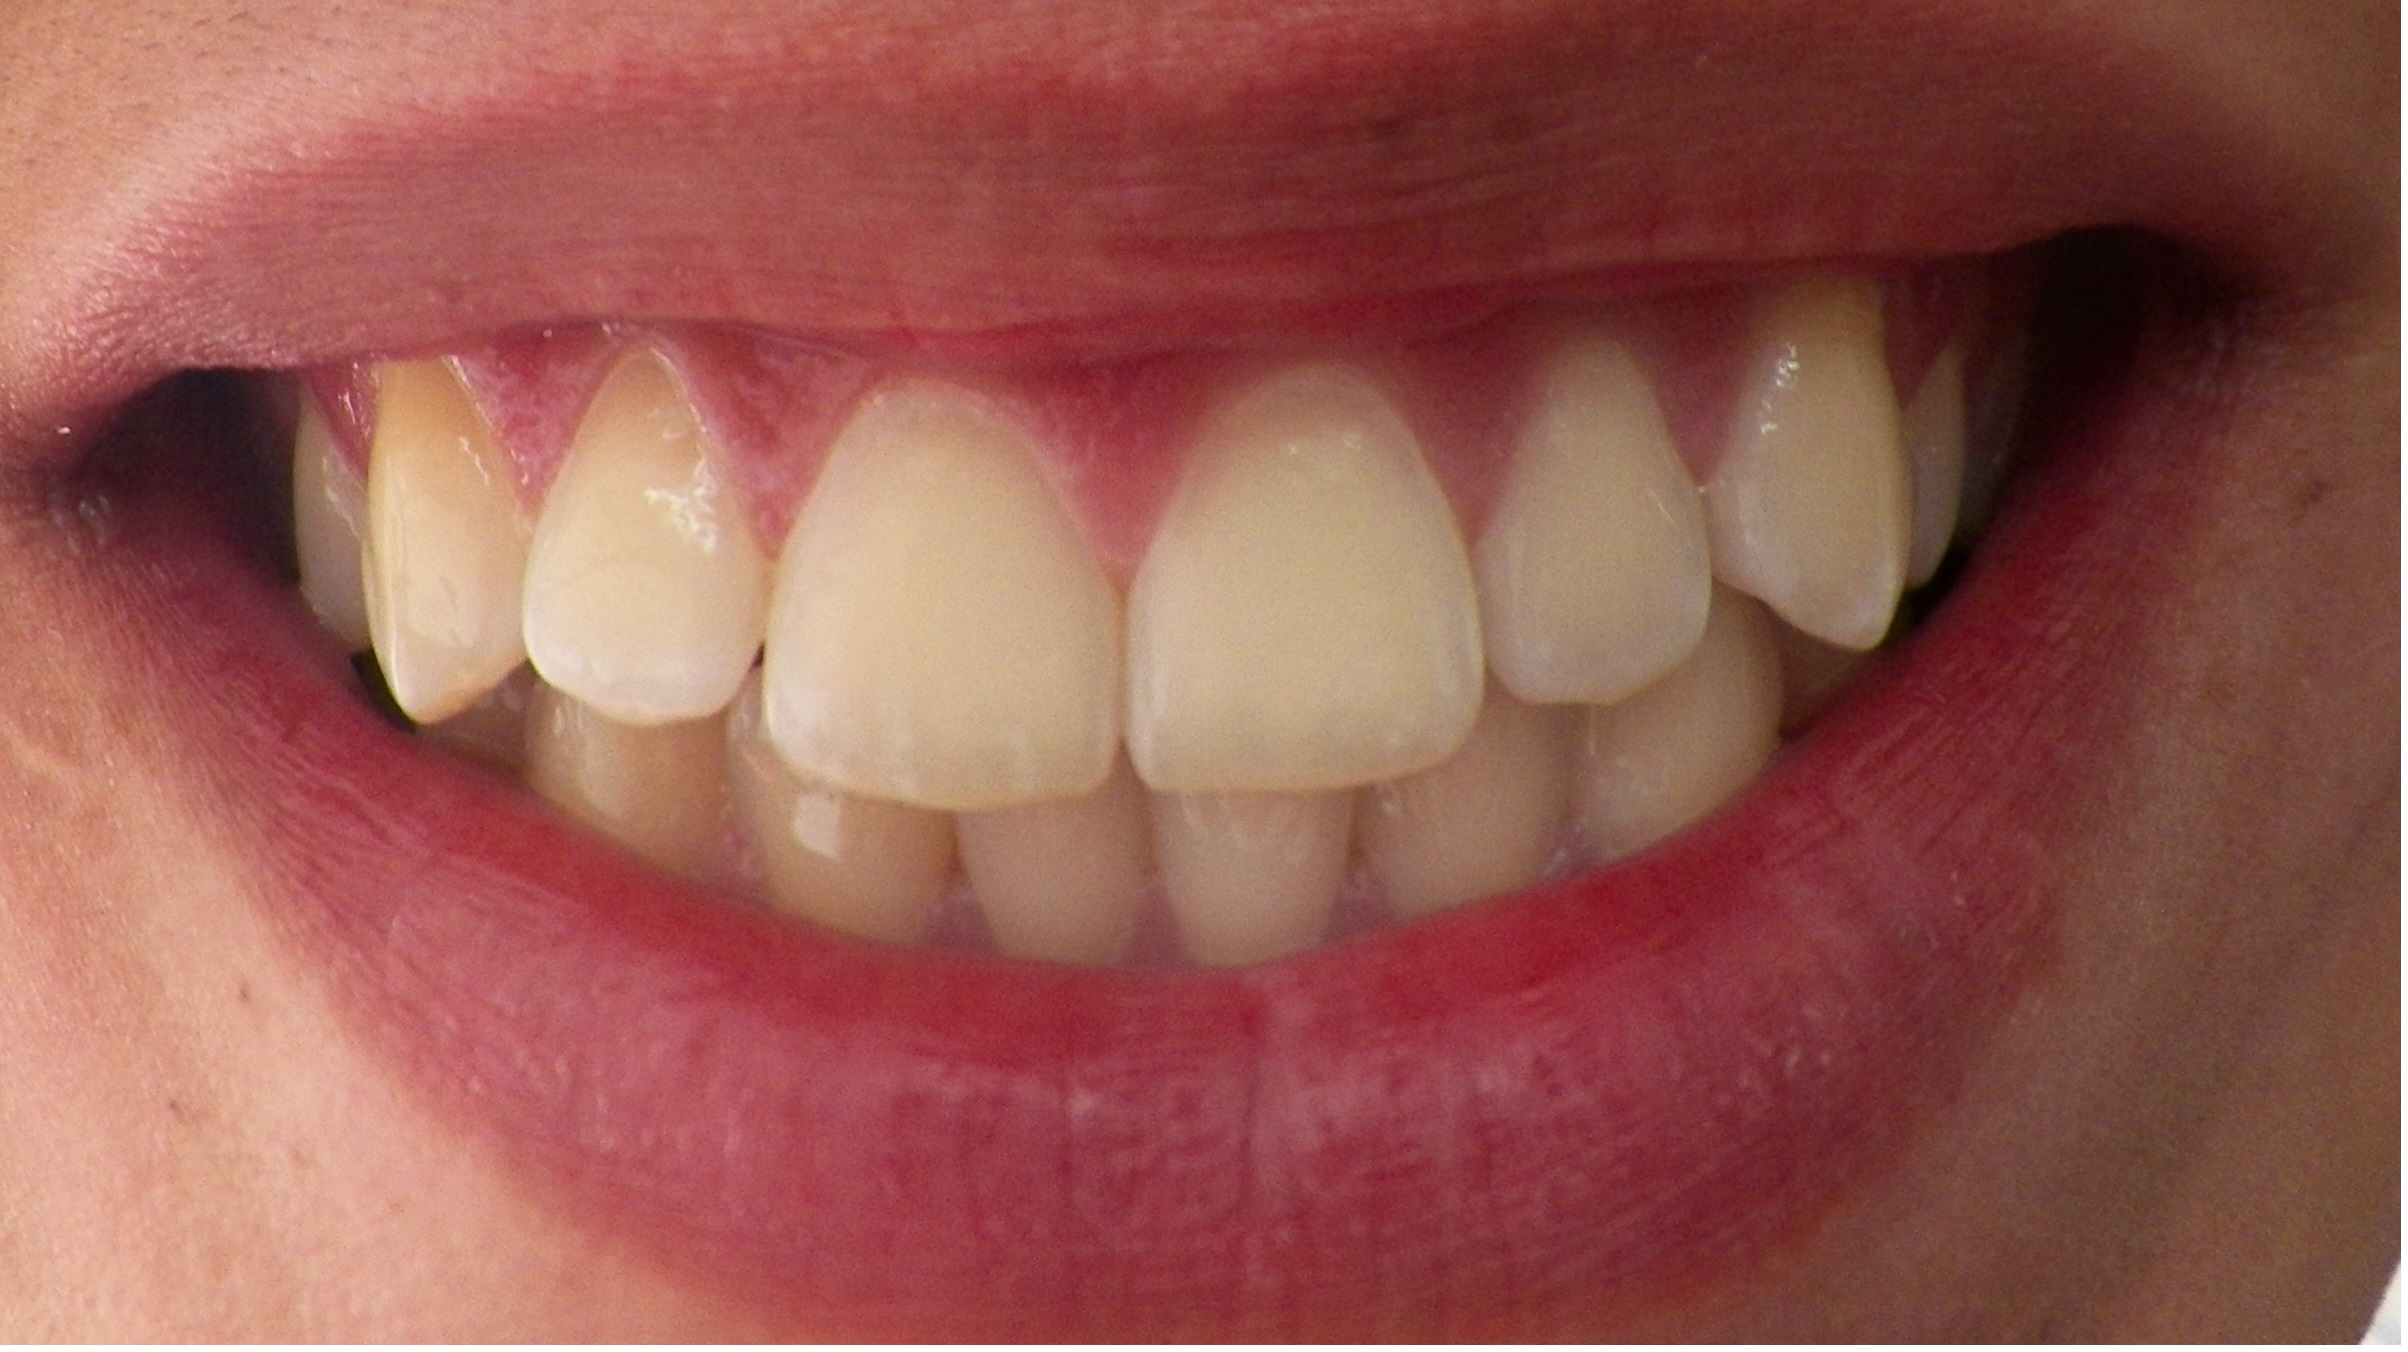boca: (298, 316, 2029, 980)
